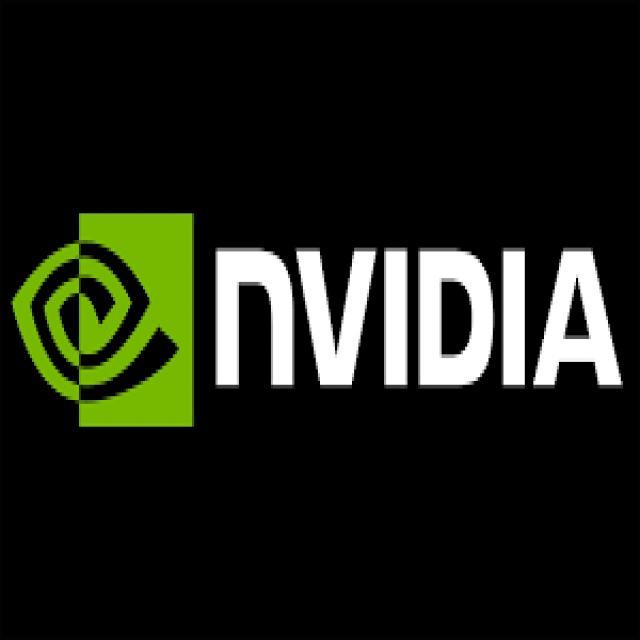nvidia: (13, 213, 622, 428), (12, 212, 196, 426)
